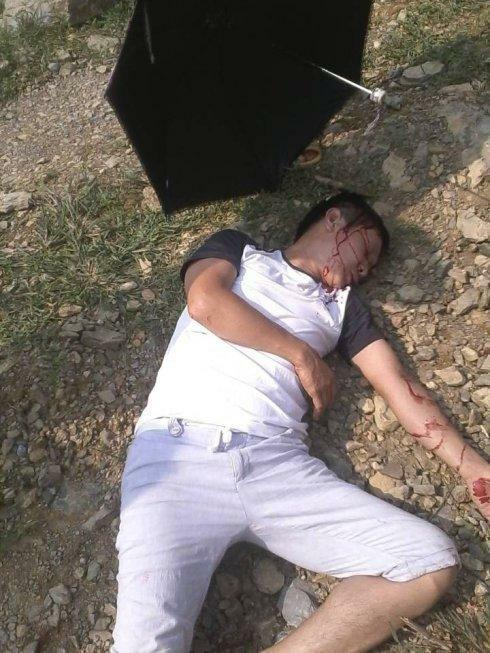Fall-Detected: (55, 185, 482, 651)
